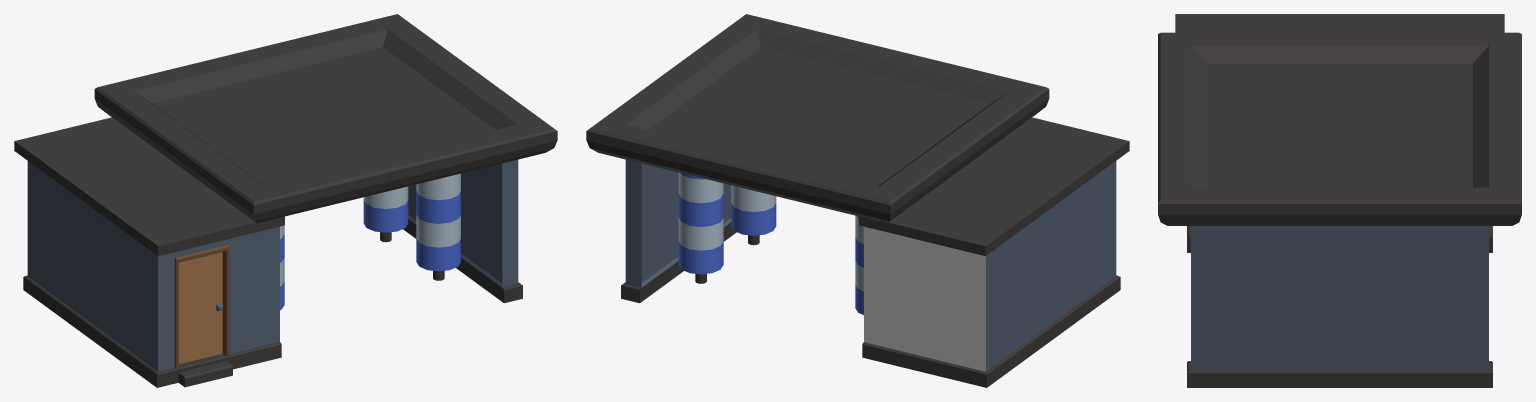
File: LavaJato.P.fbx
The picture shows the model from 3 angles, left to right: view 1: azimuth 30°, elevation 25°; view 2: azimuth 150°, elevation 25°; view 3: azimuth 270°, elevation 25°; orthographic projection. The views are drawn at different scales.
Parts seen in each view (by area): view 1: LavaJato.P; view 2: LavaJato.P; view 3: LavaJato.P.
Part boxes in pixels (box(x1,y1,x2,y2)): LavaJato.P: box(14, 14, 557, 387); LavaJato.P: box(586, 14, 1129, 387); LavaJato.P: box(1158, 14, 1521, 387).
Size of the model in its own units: 1613 by 686 by 1134.
